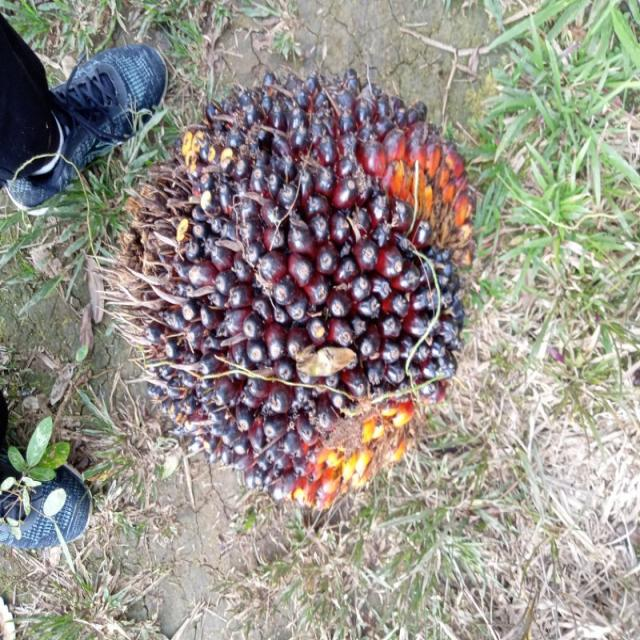fraksi 1: (87, 70, 492, 523)
